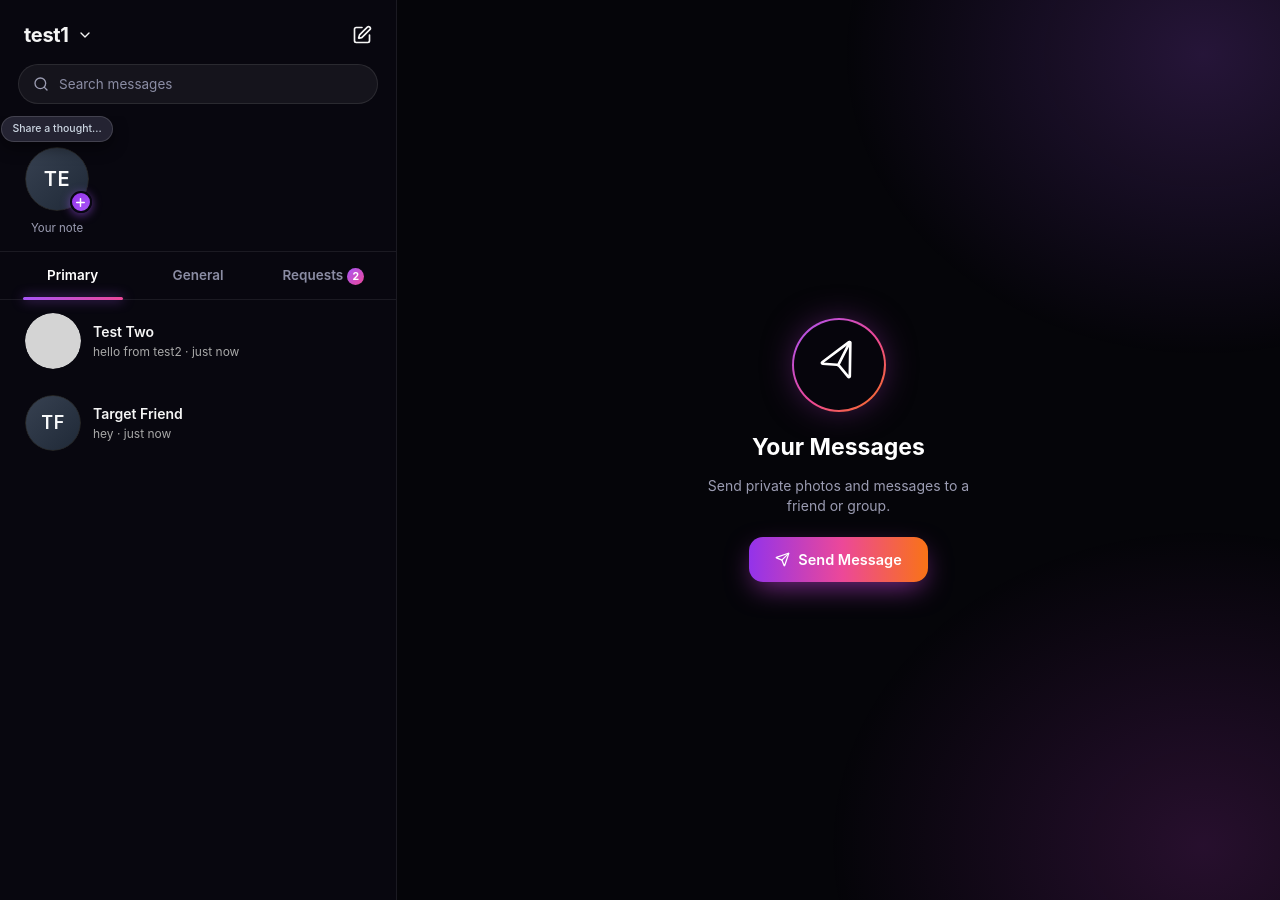
Scenario: Chat & Messages Suite › renders forwarded indicator and allows forwarding messages
The width and height of the screenshot is (1280, 900).
Later steps or results of the test are not shown.
Click the text "Test Two" at (124, 331), box x1=93 y1=321 x2=154 y2=342
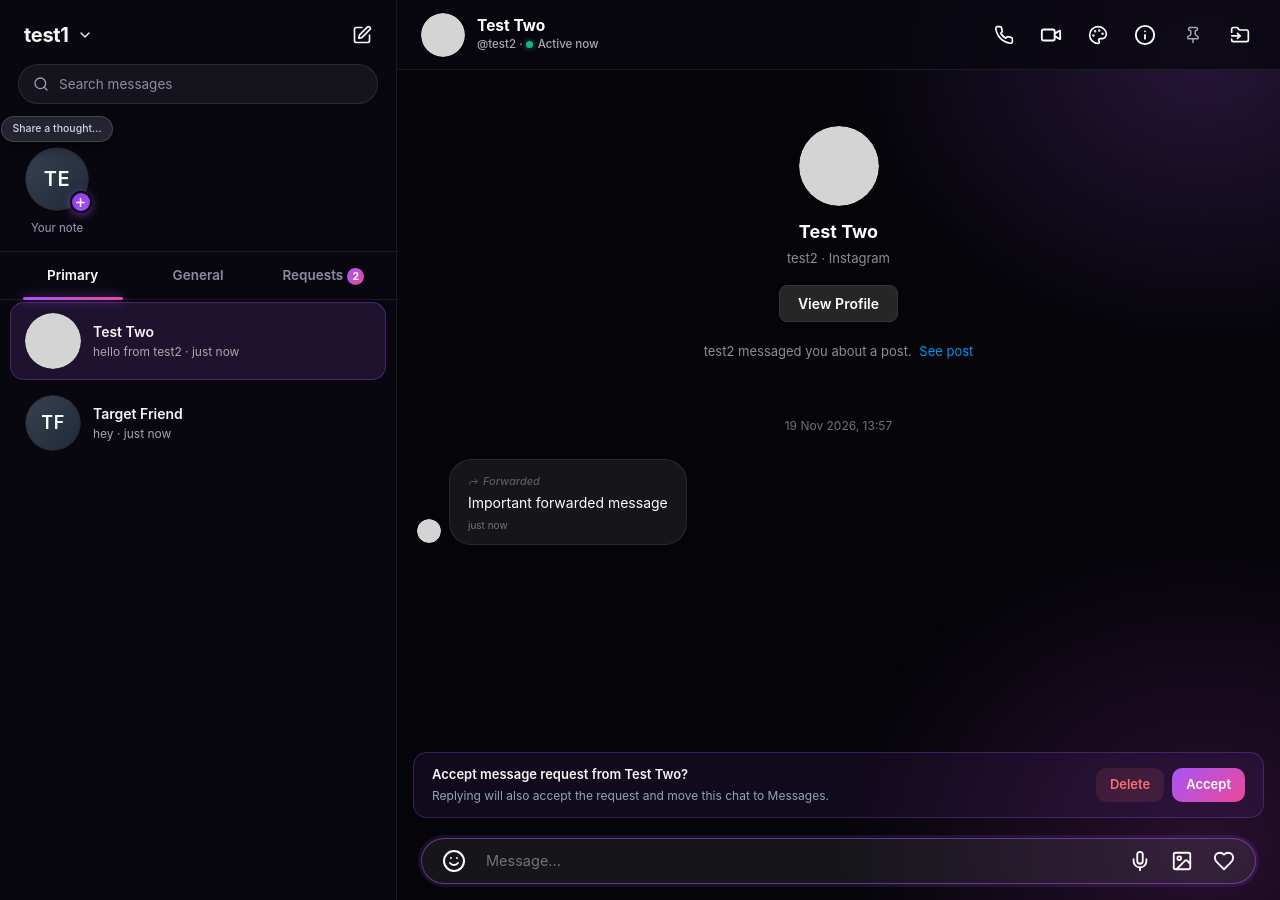
Result: the text "Important forwarded message" is shown at x1=468 y1=494 x2=668 y2=514
Result: the text "Forwarded" is shown at x1=483 y1=474 x2=540 y2=489
